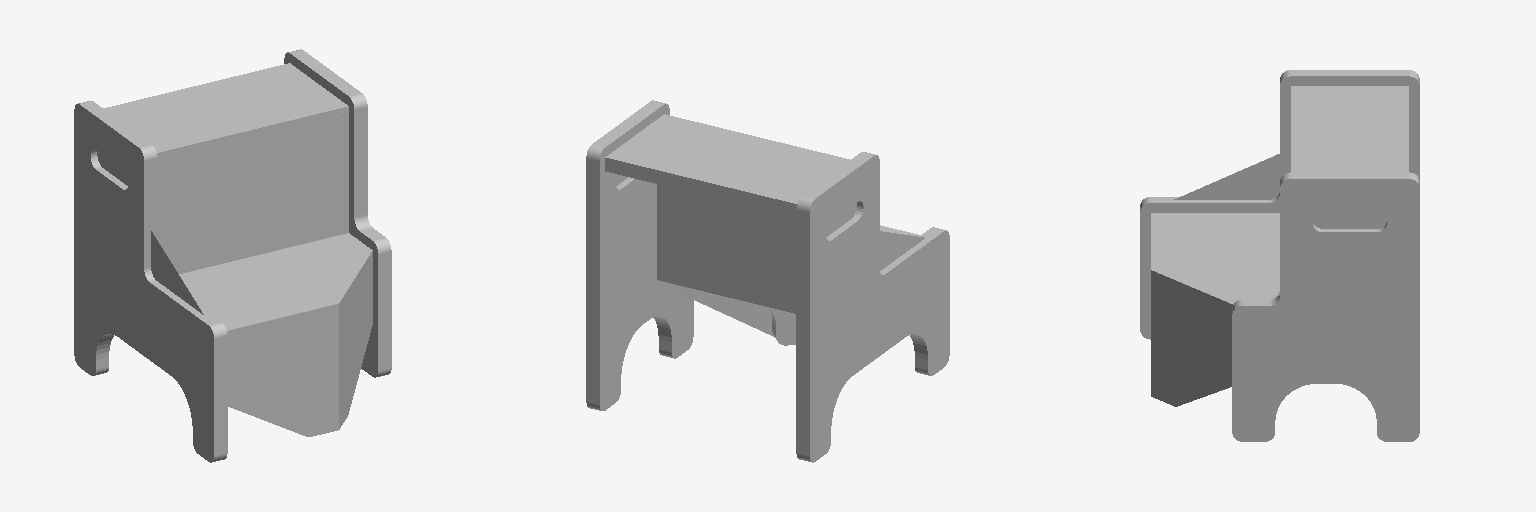
File: GuestBathroomSteps.obj
3 views of the same model, side by side, from view 1: azimuth 30°, elevation 25°; view 2: azimuth 150°, elevation 25°; view 3: azimuth 270°, elevation 25° (orthographic).
Parts seen in each view (by area): view 1: Mesh1 StepsSide_sheet1 Model, Mesh5 TopStepKick_sheet1 Model, Mesh2 TopStep_sheet1 Model, Mesh3 BottomStep_sheet1 Model, Mesh4 BottomStepKick_sheet1 Model, Mesh6 StepsSideRight_sheet1 Model, Mesh7 CutShelfFace_sheet1 Model; view 2: Mesh1 StepsSide_sheet1 Model, Mesh6 StepsSideRight_sheet1 Model, Mesh2 TopStep_sheet1 Model, Mesh5 TopStepKick_sheet1 Model, Mesh7 CutShelfFace_sheet1 Model; view 3: Mesh6 StepsSideRight_sheet1 Model, Mesh3 BottomStep_sheet1 Model, Mesh2 TopStep_sheet1 Model, Mesh1 StepsSide_sheet1 Model, Mesh7 CutShelfFace_sheet1 Model.
Boxes of the visible parts, x1=… form: Mesh1 StepsSide_sheet1 Model: x1=74, y1=101, x2=227, y2=462; Mesh5 TopStepKick_sheet1 Model: x1=158, y1=114, x2=348, y2=273; Mesh2 TopStep_sheet1 Model: x1=103, y1=63, x2=348, y2=159; Mesh3 BottomStep_sheet1 Model: x1=179, y1=233, x2=372, y2=337; Mesh4 BottomStepKick_sheet1 Model: x1=228, y1=311, x2=338, y2=436; Mesh6 StepsSideRight_sheet1 Model: x1=284, y1=49, x2=391, y2=377; Mesh7 CutShelfFace_sheet1 Model: x1=339, y1=258, x2=372, y2=429; Mesh1 StepsSide_sheet1 Model: x1=796, y1=152, x2=949, y2=462; Mesh6 StepsSideRight_sheet1 Model: x1=586, y1=100, x2=693, y2=410; Mesh2 TopStep_sheet1 Model: x1=605, y1=114, x2=849, y2=217; Mesh5 TopStepKick_sheet1 Model: x1=657, y1=184, x2=795, y2=313; Mesh7 CutShelfFace_sheet1 Model: x1=675, y1=285, x2=795, y2=345; Mesh6 StepsSideRight_sheet1 Model: x1=1232, y1=172, x2=1419, y2=441; Mesh3 BottomStep_sheet1 Model: x1=1151, y1=213, x2=1279, y2=310; Mesh2 TopStep_sheet1 Model: x1=1291, y1=86, x2=1408, y2=171; Mesh1 StepsSide_sheet1 Model: x1=1140, y1=70, x2=1419, y2=339; Mesh7 CutShelfFace_sheet1 Model: x1=1151, y1=277, x2=1231, y2=406.
Bounding box in the file's own units: 12 × 13.5 × 13.